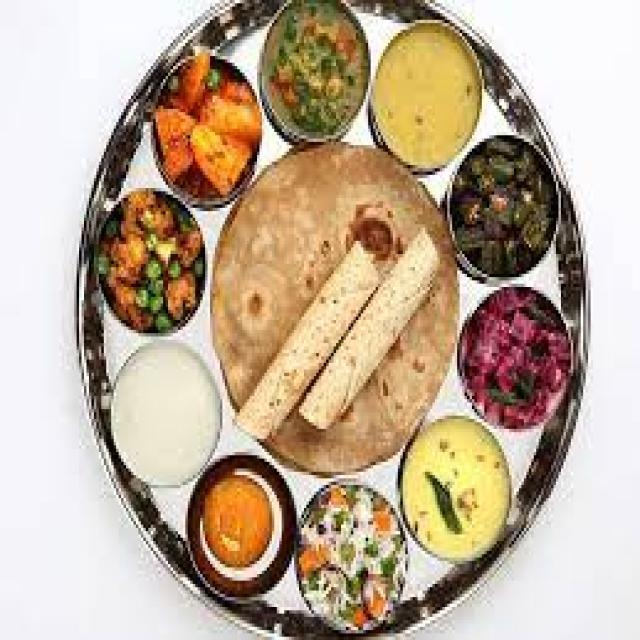dal: (403, 407, 528, 578), (370, 22, 493, 168), (101, 344, 225, 485)
papad: (245, 238, 420, 444)
sambar-rasam: (367, 20, 491, 169)
sweet: (181, 461, 295, 576)
veg-fry: (149, 48, 267, 211)
